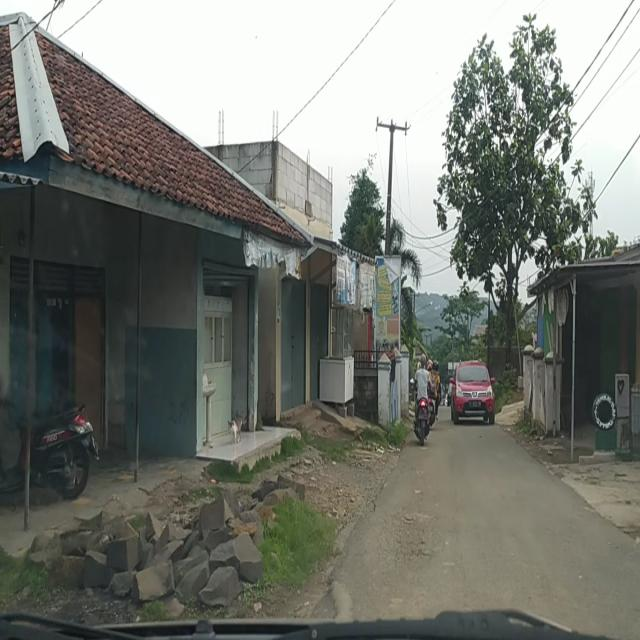Drain Hole: (378, 496, 443, 573)
